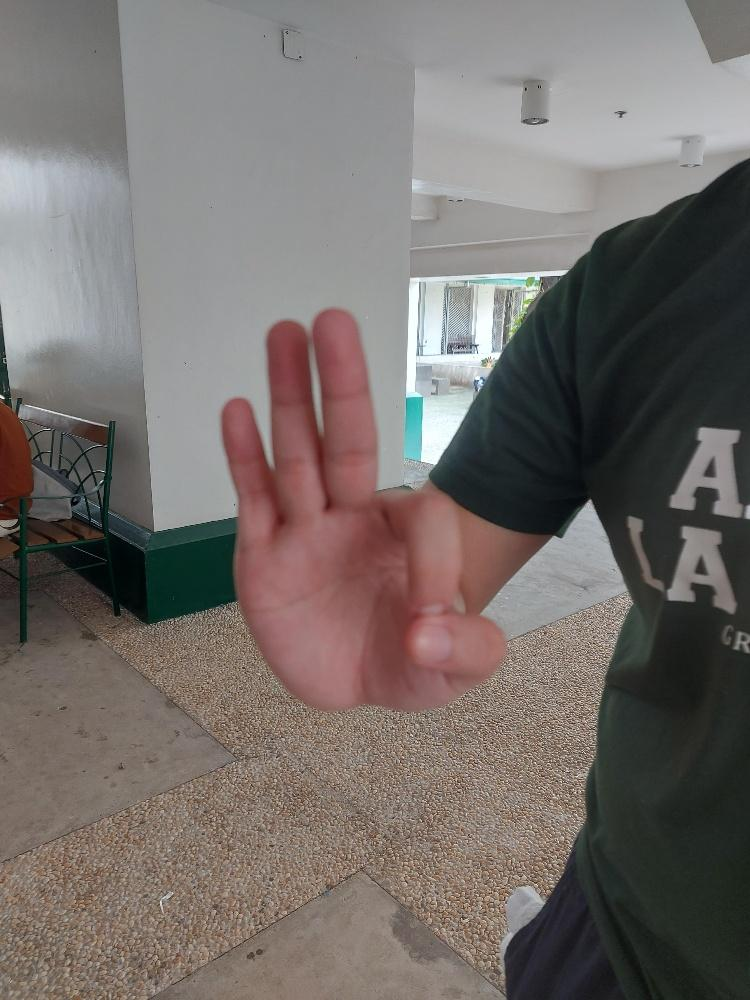f: (215, 304, 509, 712)
